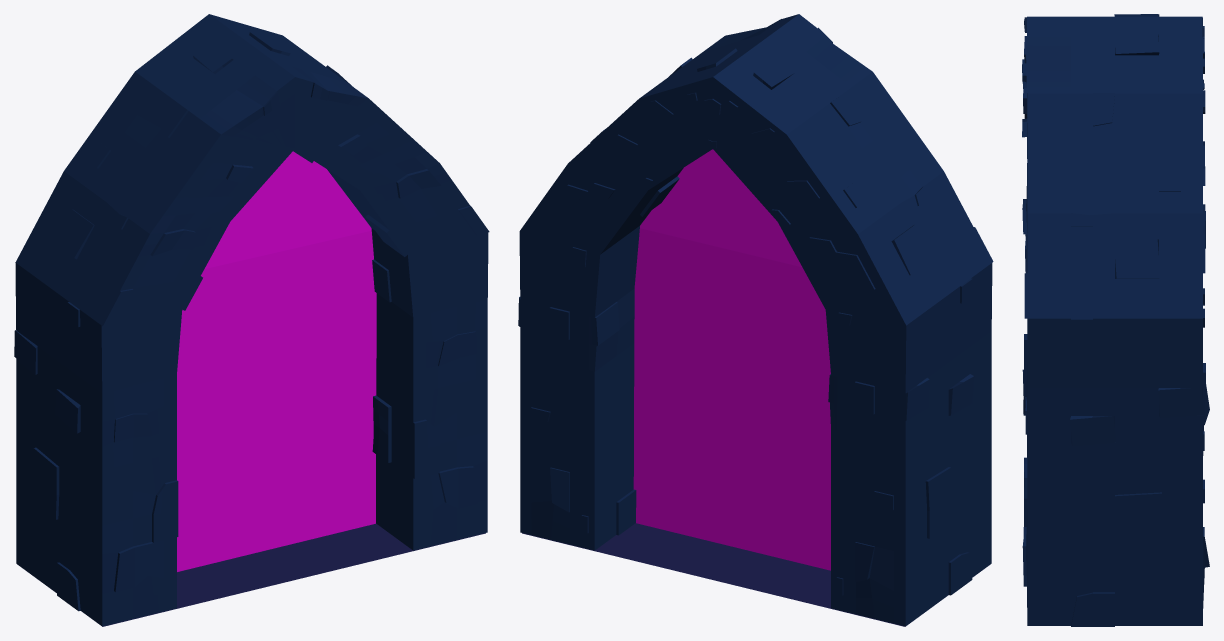
The model's file is portal.fbx.
3 renders of one model, left to right at view 1: azimuth 30°, elevation 25°; view 2: azimuth 150°, elevation 25°; view 3: azimuth 270°, elevation 25°, orthographic. The views are drawn at different scales.
Visible parts, largest first — view 1: Cube, Cube.001, Plane; view 2: Cube, Cube.001, Plane; view 3: Cube.
Boxes of the visible parts, bbox=[...] form: Cube: bbox=[14, 14, 489, 626]; Cube.001: bbox=[177, 151, 376, 571]; Plane: bbox=[17, 523, 485, 626]; Cube: bbox=[518, 14, 993, 626]; Cube.001: bbox=[633, 149, 830, 570]; Plane: bbox=[522, 523, 989, 626]; Cube: bbox=[1022, 14, 1209, 626].
Bounding box in the file's own units: 526 × 645 × 214.
